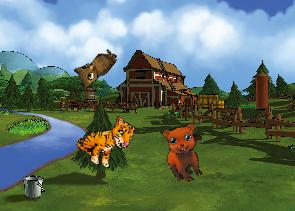bear: (154, 117, 216, 187)
owl: (68, 39, 119, 93)
tiger: (72, 105, 139, 174)
